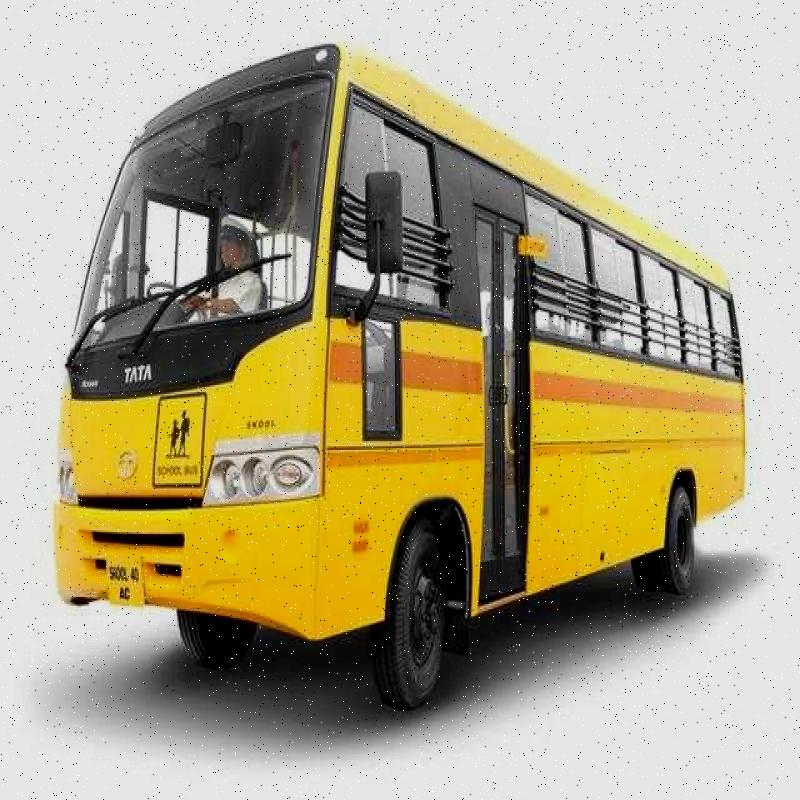bus: (50, 35, 755, 690)
